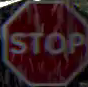Stop: (3, 2, 87, 86)
